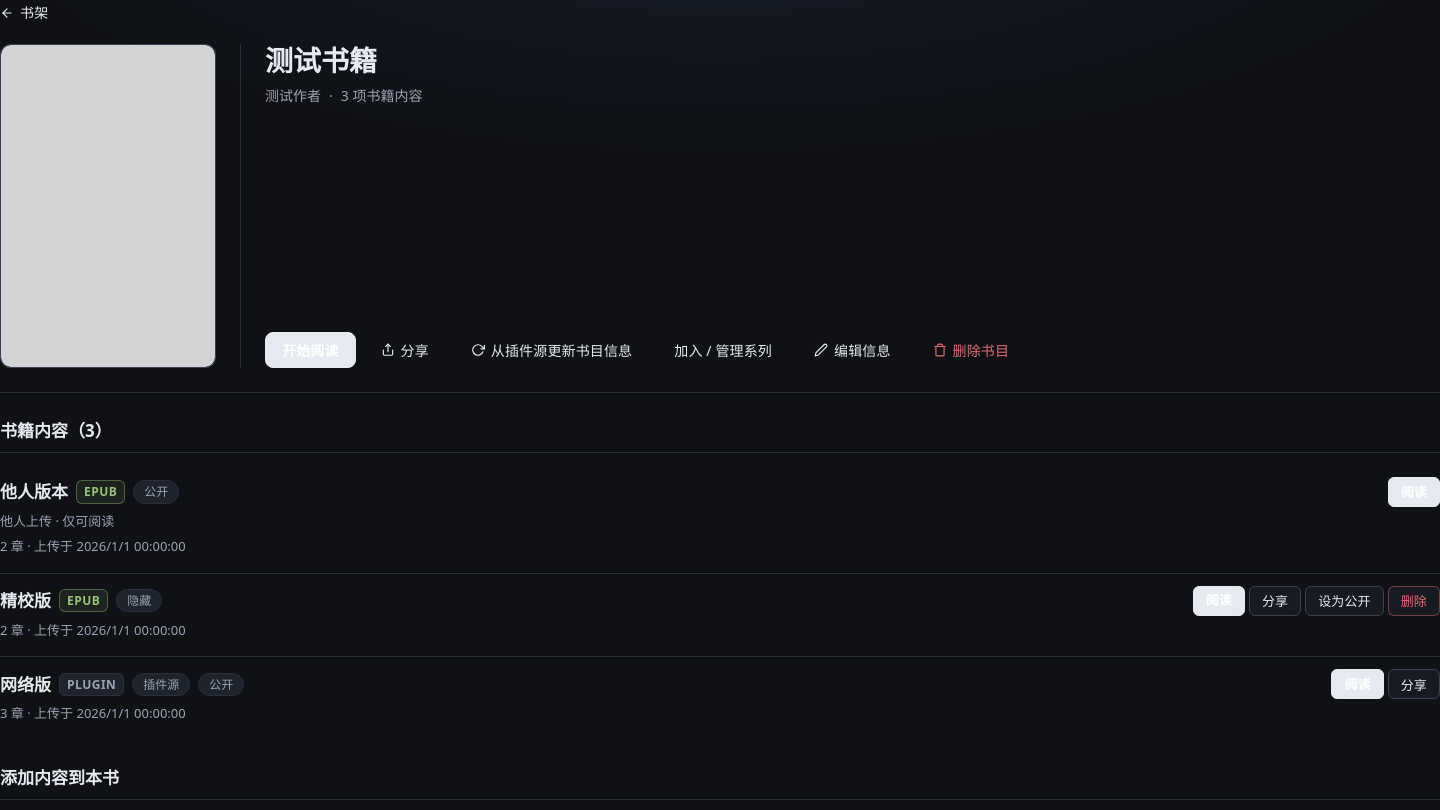
Scenario: starts per-source sharing with that version selected instead of the first file
This screenshot has width=1440, height=810.
Step 1. Click the button "分享" in the row of "plugin" → (1414, 684), box [1388, 669, 1439, 699]
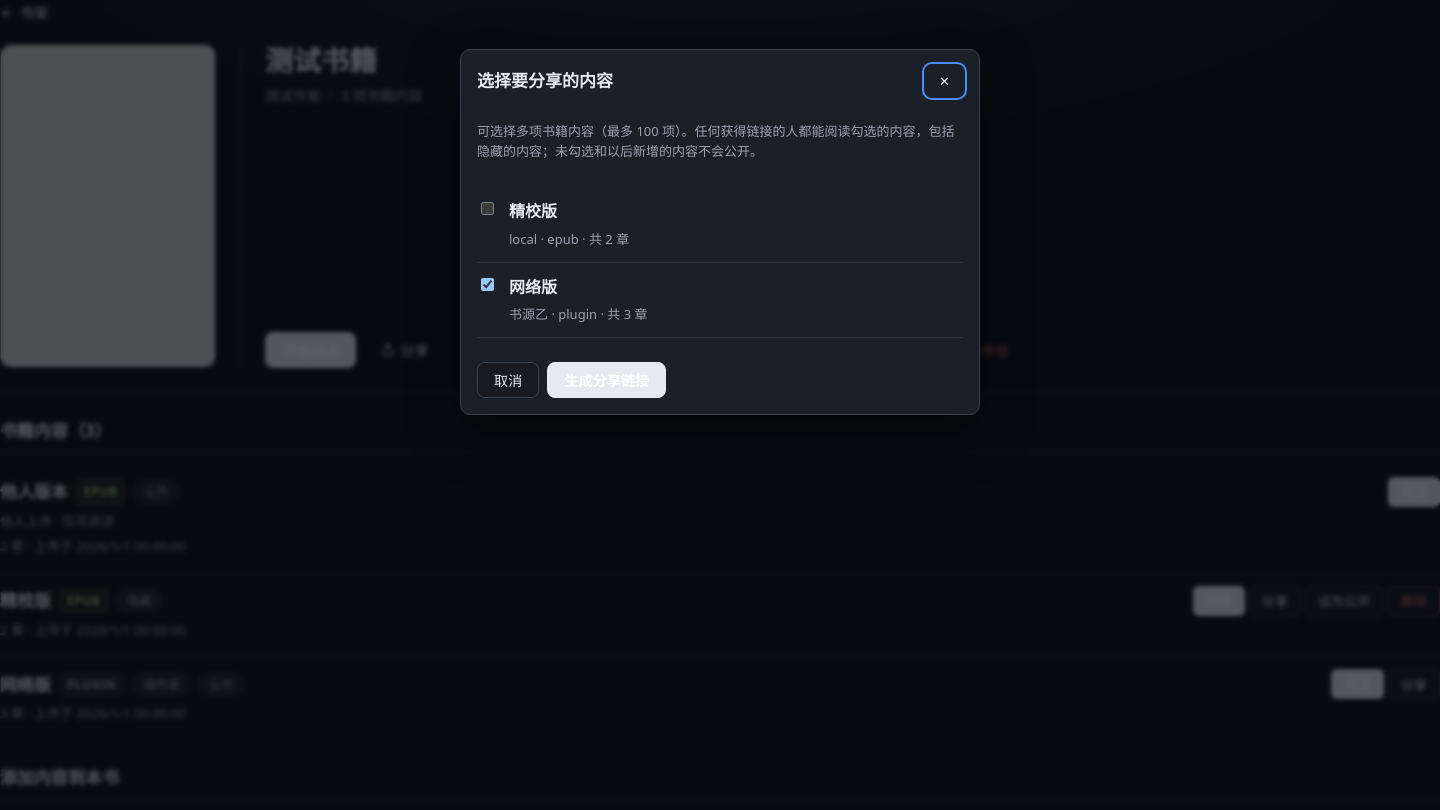
Check: the checkbox labelled "网络版 书源乙 · plugin · 共 3 章" is checked, box [481, 278, 494, 291]
Check: the checkbox labelled "精校版 local · epub · 共 2 章" is not checked, box [481, 202, 494, 215]
